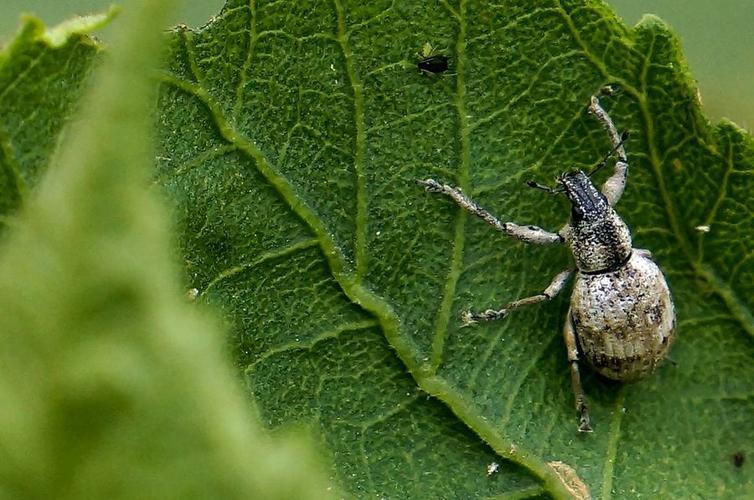Curculionidae: (412, 84, 679, 434)
